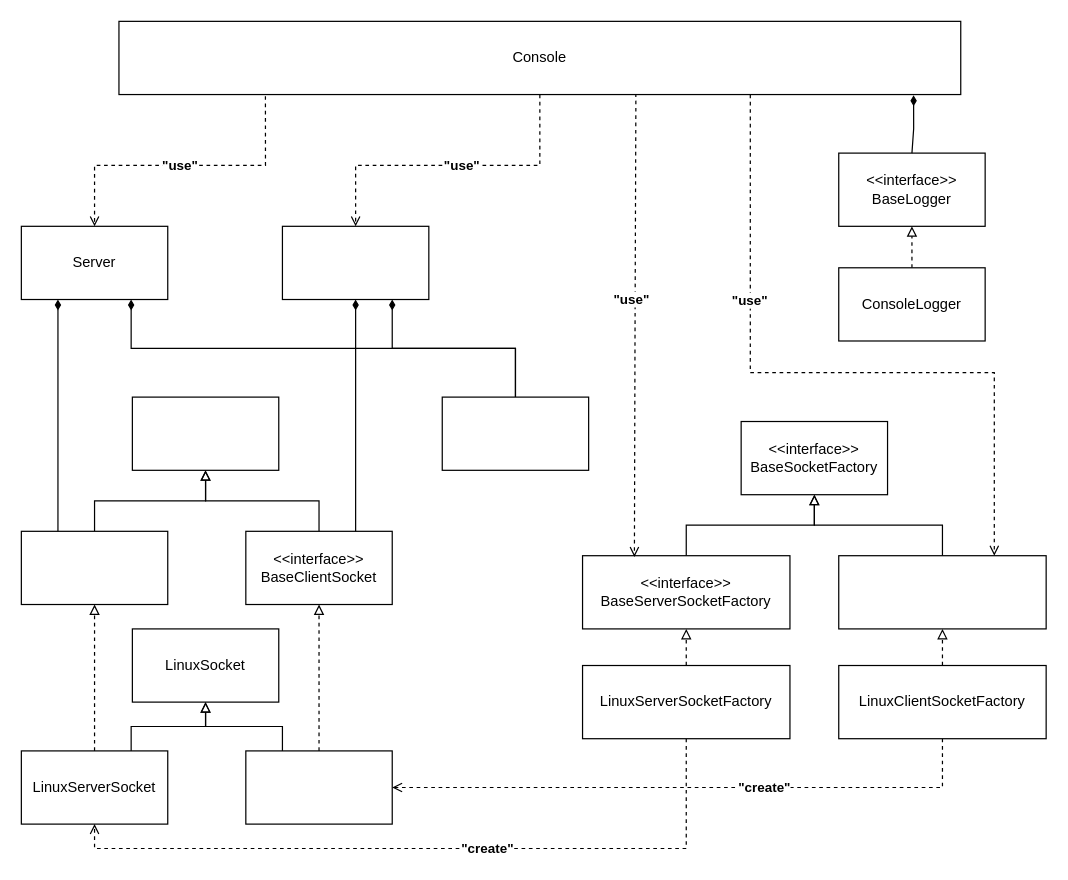
The diagram is 1068 pixels wide and 880 high, and some of its shapes have lost their labels. Here are the shapes that lost their labels. From the top down, the centre of each, then its label:
pixel 355 262: Client
pixel 205 433: <<interface>> BaseSocket
pixel 515 433: Buffer
pixel 94 567: <<interface>> BaseServerSocket
pixel 942 591: <<interface>> BaseClientSocketFactory
pixel 318 787: LinuxClientSocket
